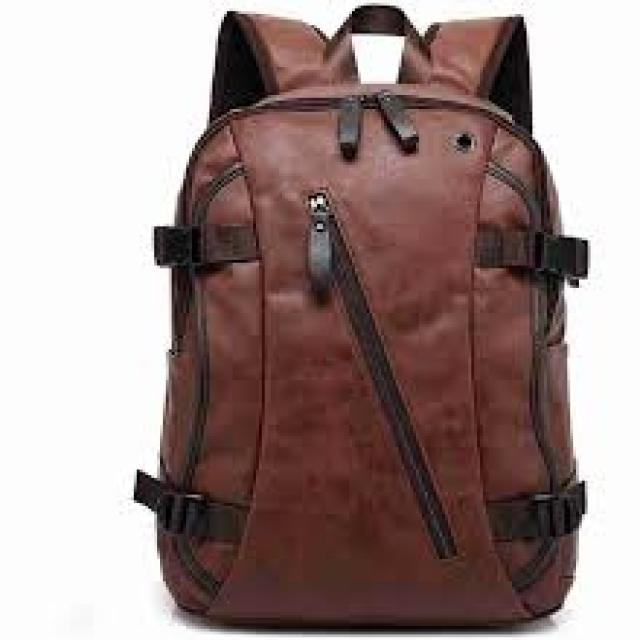backpack: (132, 1, 589, 630)
